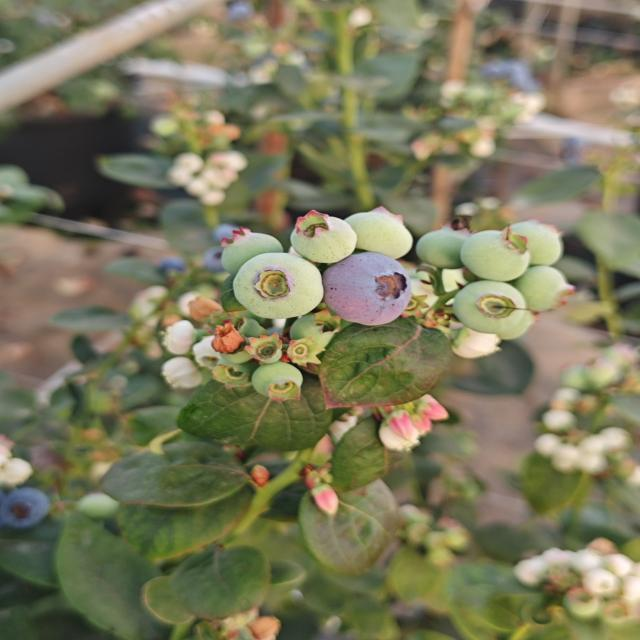ripe: (325, 250, 429, 340), (4, 481, 58, 536)
